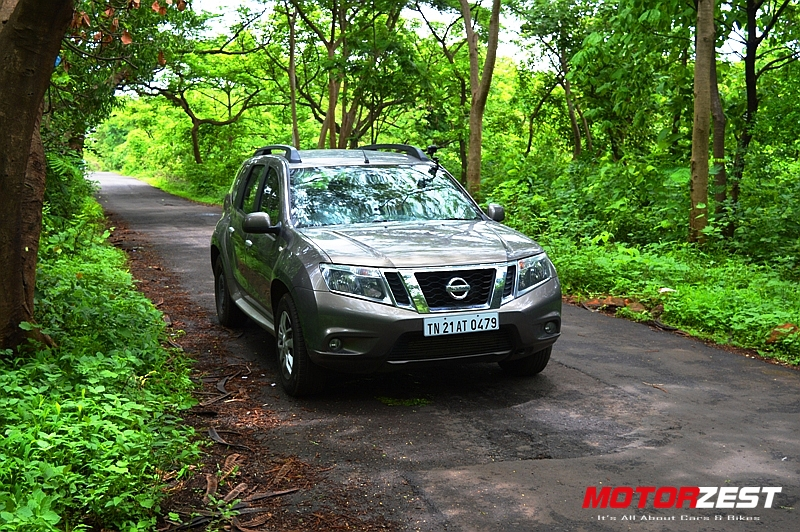number_plate: (424, 313, 502, 335)
